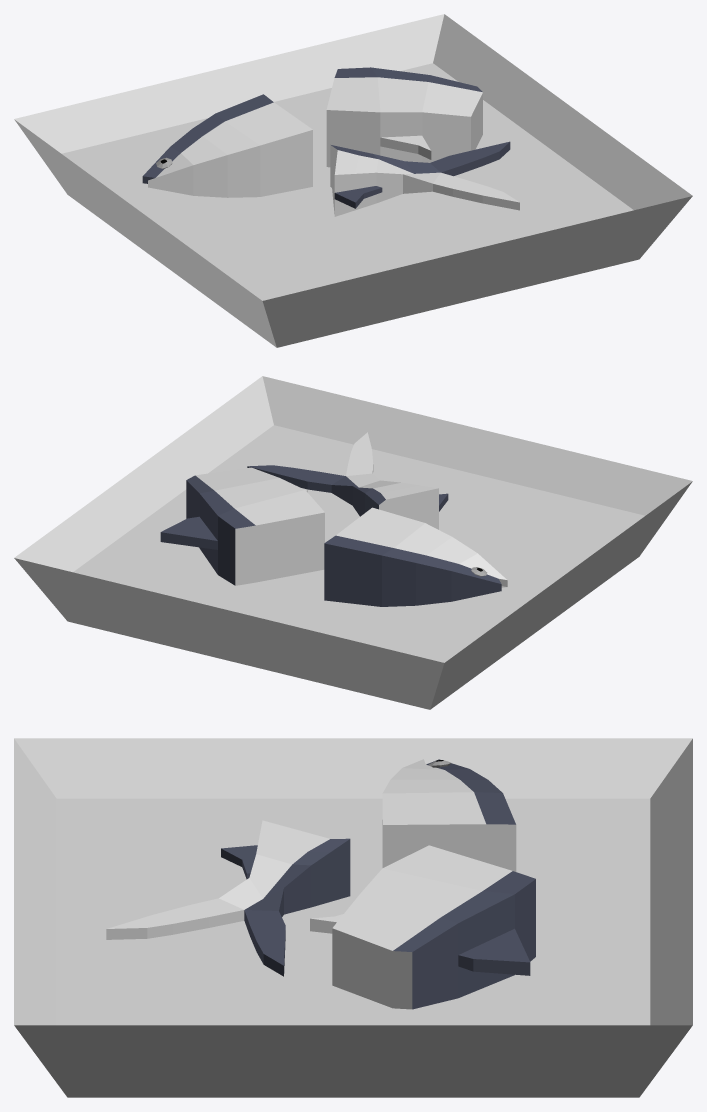
File: Milkfish Sliced on Plate.fbx
3 renders of one model, top to bottom at view 1: azimuth 30°, elevation 25°; view 2: azimuth 150°, elevation 25°; view 3: azimuth 270°, elevation 25°, orthographic. The views are drawn at different scales.
Visible parts, largest first — view 1: Milkfish on Plate; view 2: Milkfish on Plate; view 3: Milkfish on Plate.
Part boxes in pixels (bbox=[...]): Milkfish on Plate: bbox=[14, 14, 692, 347]; Milkfish on Plate: bbox=[14, 376, 692, 709]; Milkfish on Plate: bbox=[14, 738, 692, 1097].
Size of the model in its own units: 124 by 26.91 by 124.
